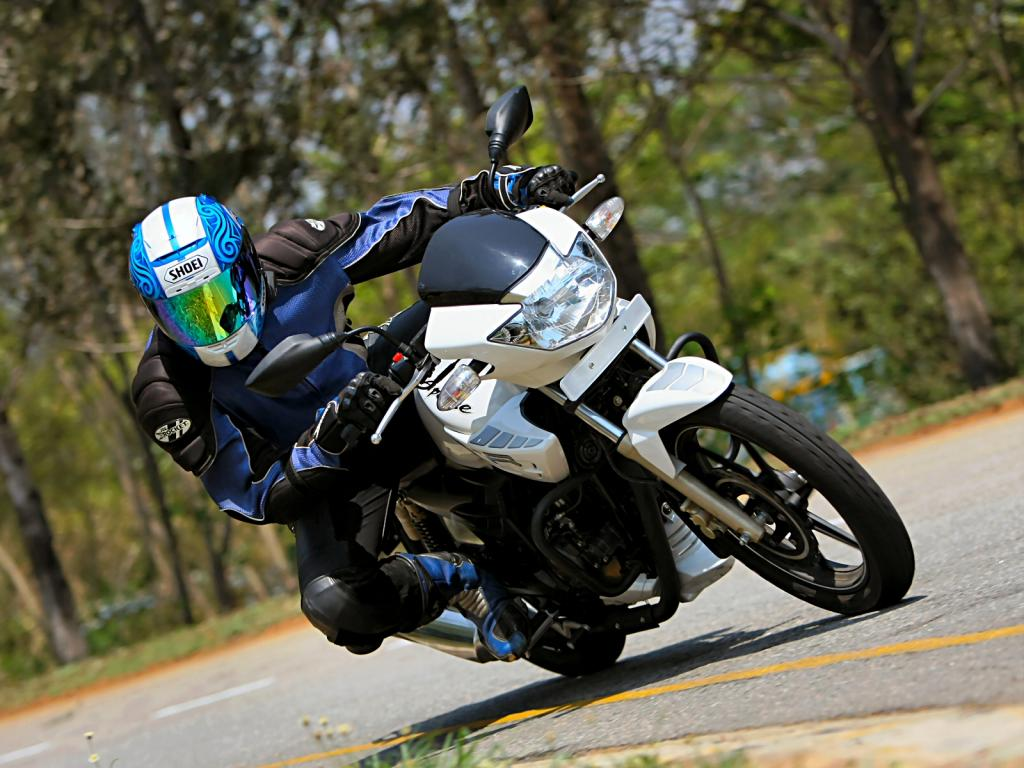helmet: (129, 199, 273, 359)
